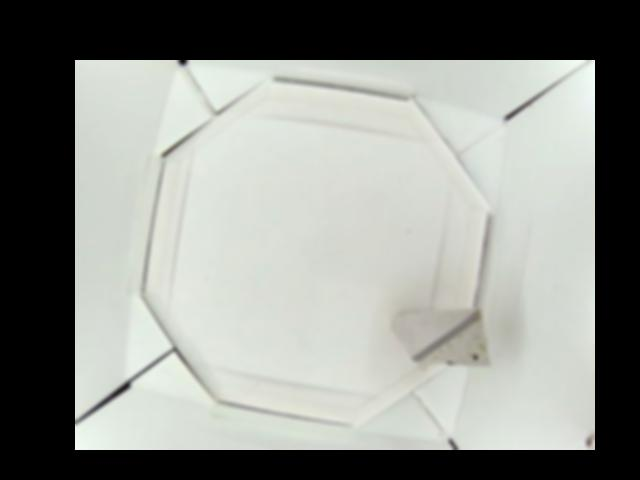China: (389, 301, 492, 369)
